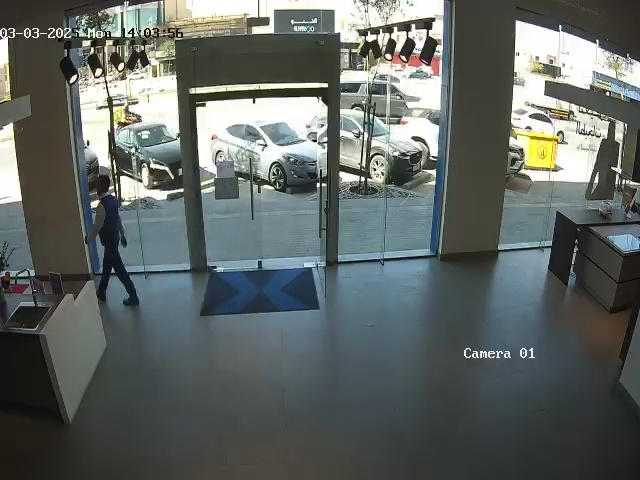employee: (85, 175, 140, 306)
